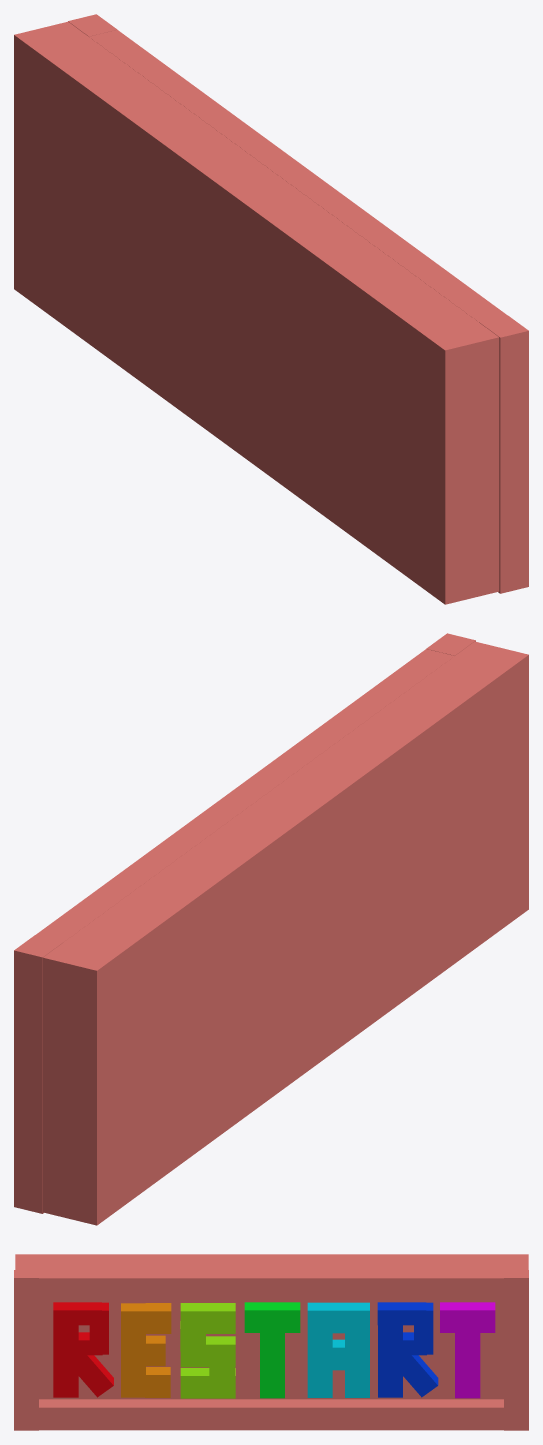
The model's file is RestartButton.gltf.
3 renders of one model, top to bottom at view 1: azimuth 30°, elevation 25°; view 2: azimuth 150°, elevation 25°; view 3: azimuth 270°, elevation 25°, orthographic. The views are drawn at different scales.
Visible parts, largest first — view 1: Cube, Cube.004, Cube.001; view 2: Cube, Cube.004, Cube.003; view 3: Cube, Cube.006, Cube.004, Cube.012, Cube.016, Cube.009, Cube.002, Cube.011, Cube.001, Cube.003, Cube.007, Cube.005.
Part boxes in pixels (left/top/right/bottom): Cube: left=14, top=21, right=499, bottom=604; Cube.004: left=89, top=30, right=507, bottom=322; Cube.001: left=479, top=315, right=528, bottom=593; Cube: left=43, top=641, right=528, bottom=1225; Cube.004: left=36, top=649, right=454, bottom=941; Cube.003: left=14, top=935, right=63, bottom=1213; Cube: left=15, top=1254, right=528, bottom=1399; Cube.006: left=38, top=1399, right=506, bottom=1430; Cube.004: left=38, top=1270, right=506, bottom=1300; Cube.012: left=307, top=1302, right=369, bottom=1397; Cube.016: left=180, top=1303, right=235, bottom=1398; Cube.009: left=53, top=1302, right=113, bottom=1397; Cube.002: left=377, top=1302, right=438, bottom=1397; Cube.011: left=121, top=1303, right=171, bottom=1397; Cube.001: left=14, top=1270, right=38, bottom=1430; Cube.003: left=504, top=1270, right=528, bottom=1430; Cube.007: left=440, top=1302, right=495, bottom=1398; Cube.005: left=244, top=1302, right=300, bottom=1398.
Bounding box in the file's own units: 3.01 × 8.9 × 27.23.
